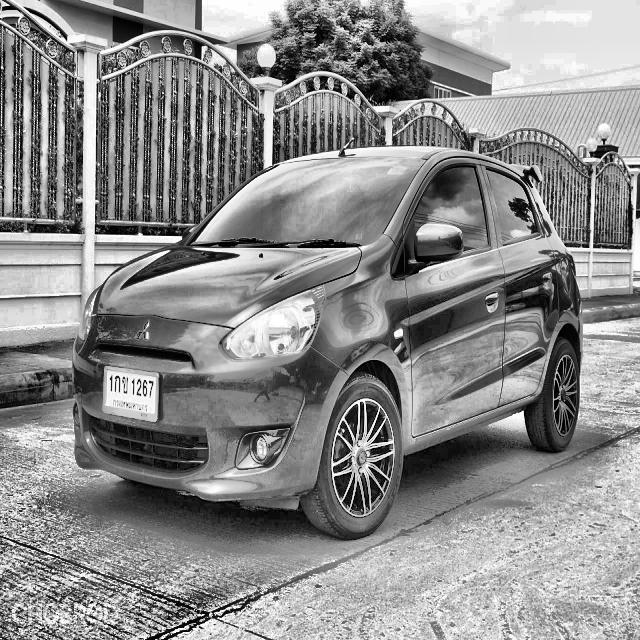license-plate: (101, 362, 163, 425)
